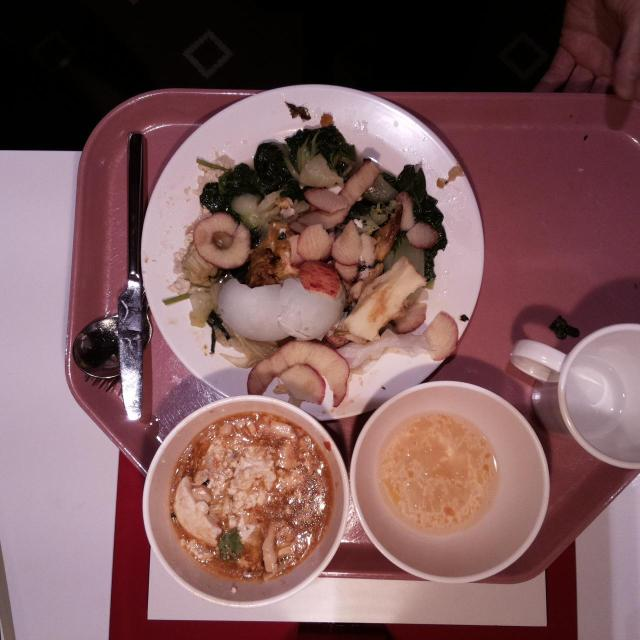Apple-core: (331, 253, 429, 349)
Apple-peel: (245, 339, 352, 407), (297, 221, 359, 297), (190, 210, 252, 274), (422, 308, 458, 364), (302, 184, 354, 222)
Egg-shell: (216, 278, 284, 342), (276, 279, 344, 343)
Vegetable: (382, 164, 448, 262), (206, 143, 294, 205), (284, 125, 358, 176)
